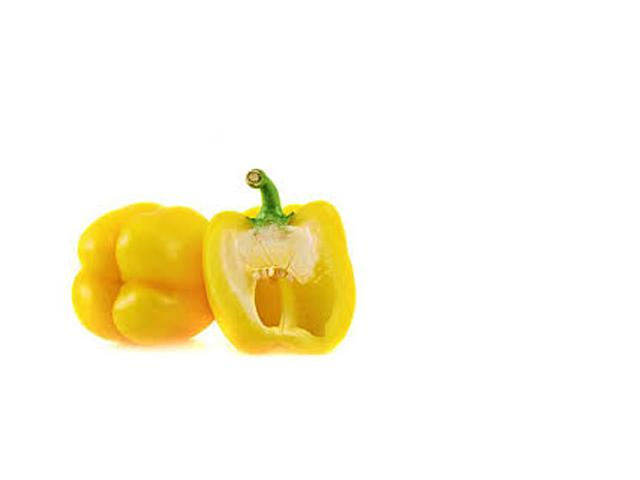bell_pepper: (174, 164, 364, 389)
